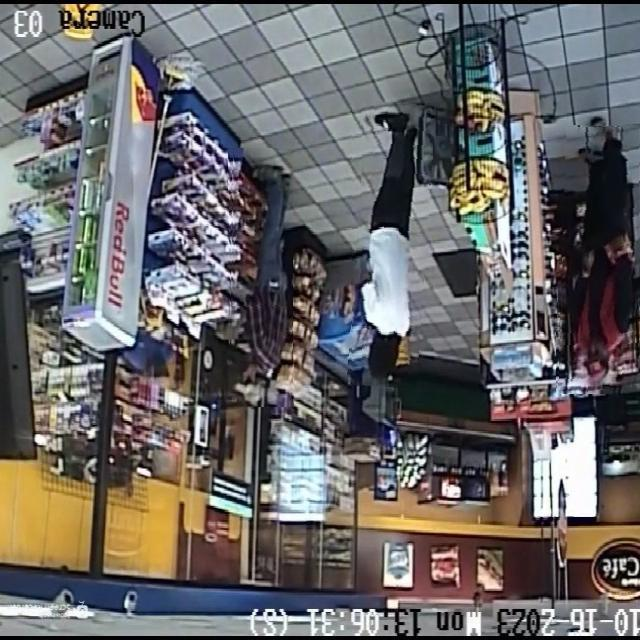Normal: (352, 102, 430, 388), (558, 125, 639, 394), (229, 148, 293, 407)
